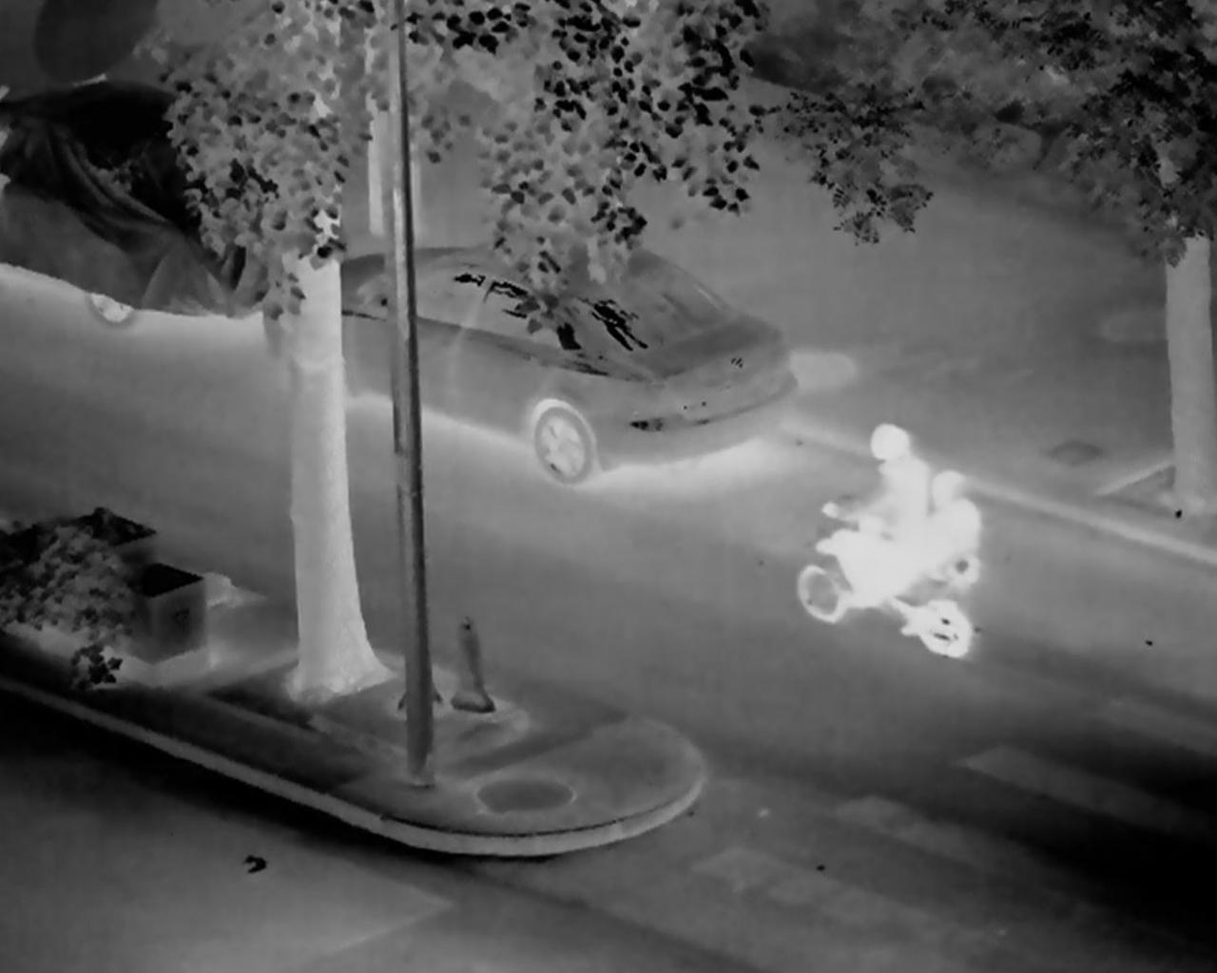person: (821, 399, 922, 630), (916, 455, 982, 626)
